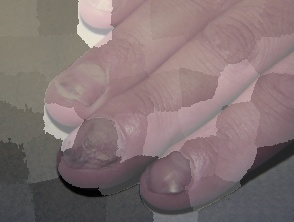Nail_psoriasis: (55, 106, 137, 191), (137, 161, 193, 213), (51, 75, 89, 109)
